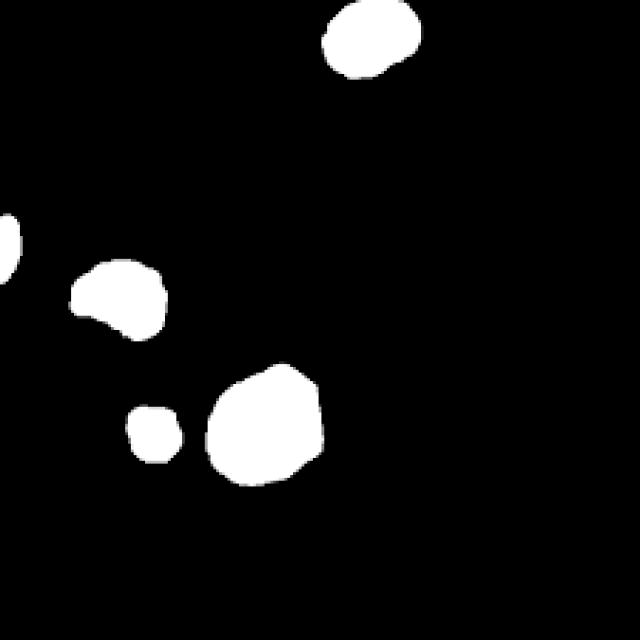cell: (207, 369, 322, 484), (70, 260, 166, 344), (320, 0, 418, 81), (132, 408, 181, 461), (1, 212, 24, 281)
